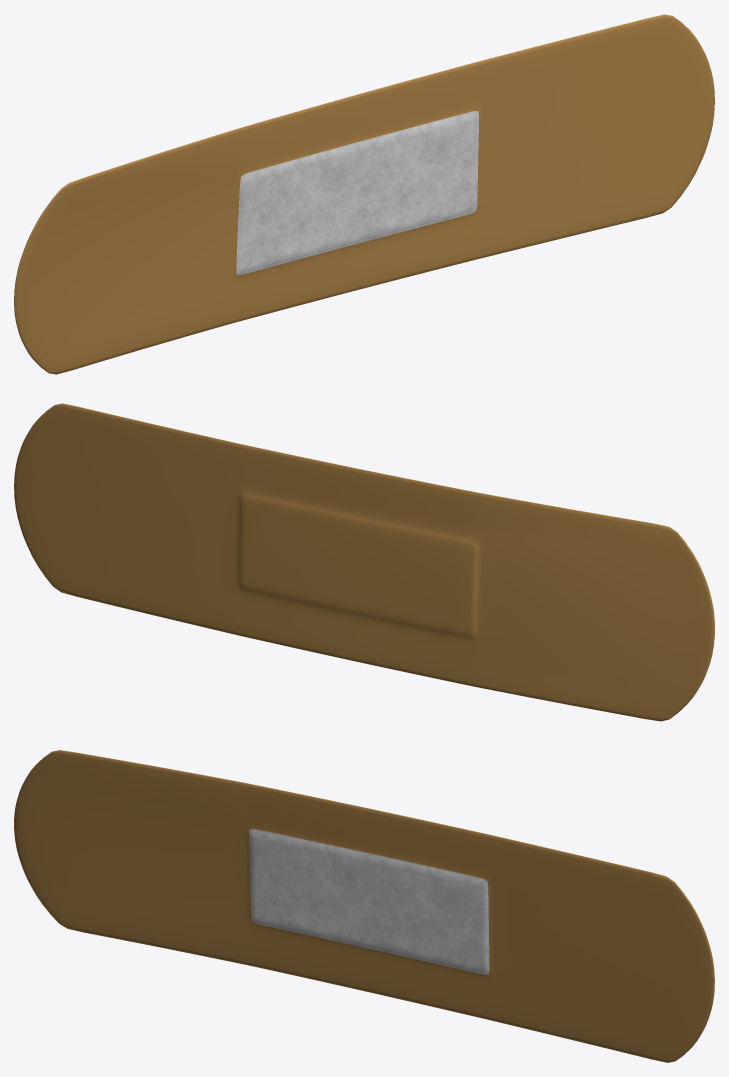
Rendered from Bandage 1.fbx.
3 views of the same model, one above another, from view 1: azimuth 30°, elevation 25°; view 2: azimuth 150°, elevation 25°; view 3: azimuth 330°, elevation 25° (orthographic). The views are drawn at different scales.
Parts seen in each view (by area): view 1: Bandage; view 2: Bandage; view 3: Bandage.
Boxes of the visible parts, x1,y1,x2,y2 form: Bandage: (14,14,714,374); Bandage: (14,403,714,721); Bandage: (14,750,714,1062).
Bounding box in the file's own units: 705 × 189 × 47.13.
